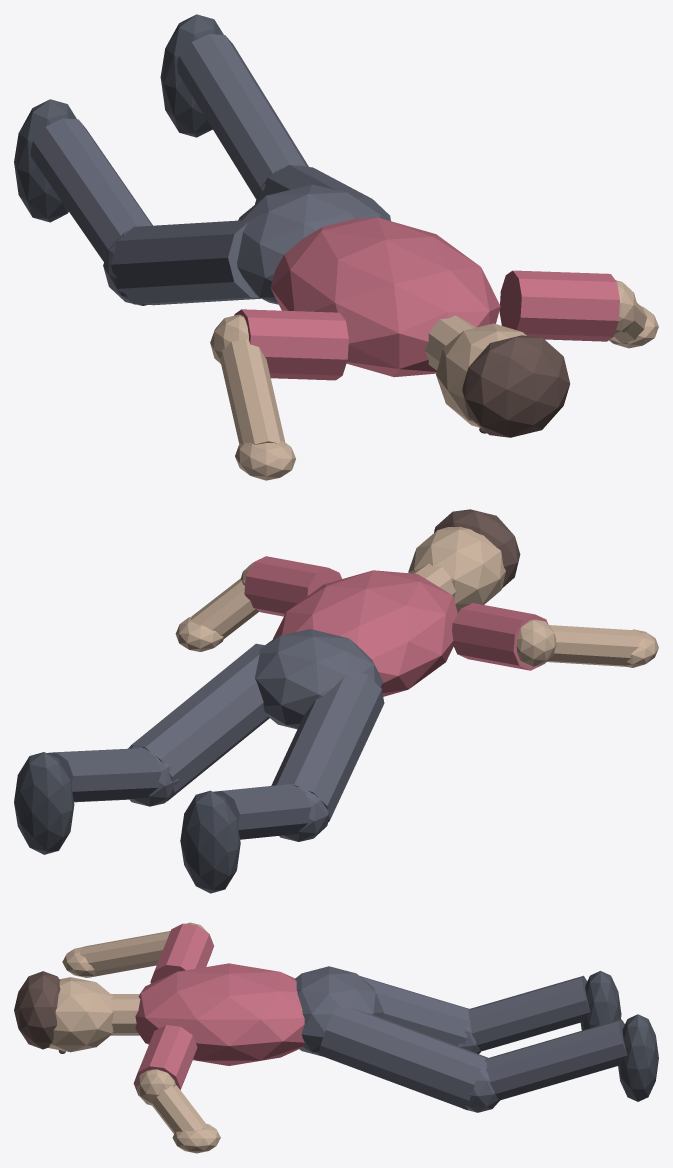
3 renders of one model, top to bottom at view 1: azimuth 30°, elevation 25°; view 2: azimuth 150°, elevation 25°; view 3: azimuth 270°, elevation 25°, orthographic. The views are drawn at different scales.
Visible parts, largest first — view 1: world; view 2: world; view 3: world.
Part boxes in pixels (x1=…): world: x1=14, y1=14, x2=658, y2=480; world: x1=14, y1=509, x2=658, y2=893; world: x1=14, y1=922, x2=658, y2=1153.
Size of the model in its own units: 1.25 by 0.3942 by 2.
